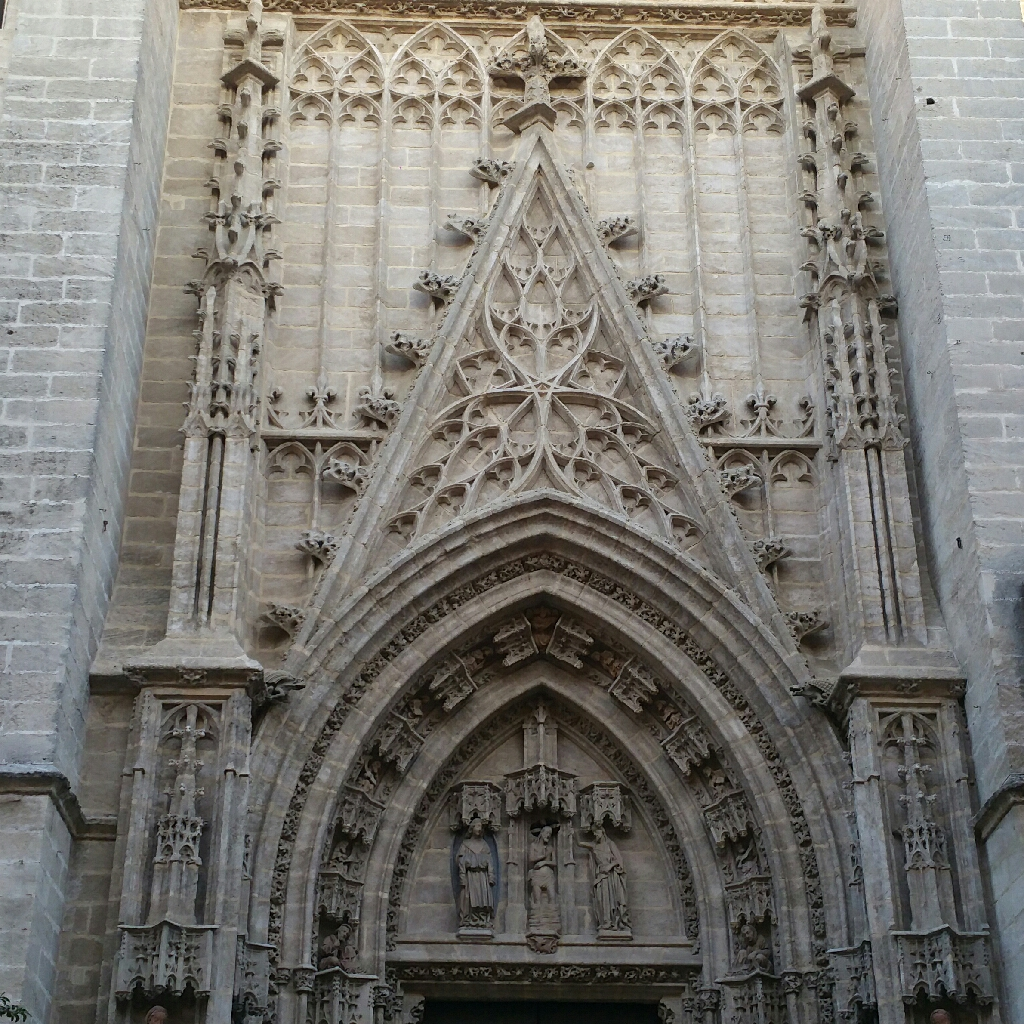arco-apuntado: (262, 520, 829, 945)
